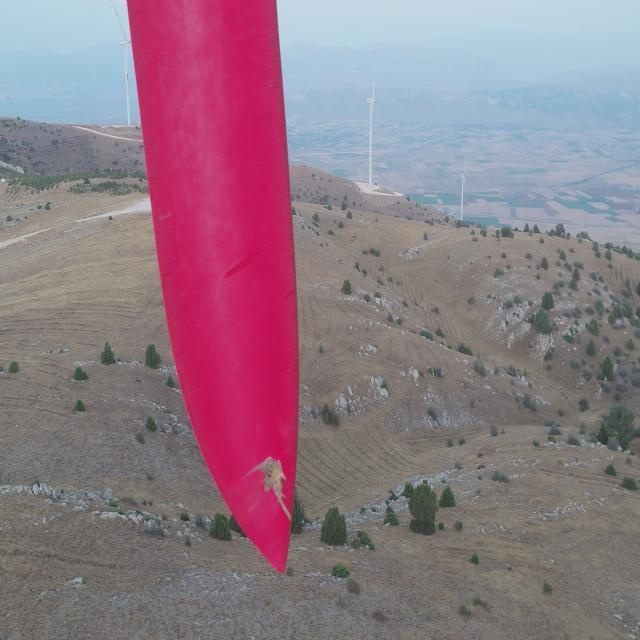Coating_defects: (258, 456, 297, 523)
